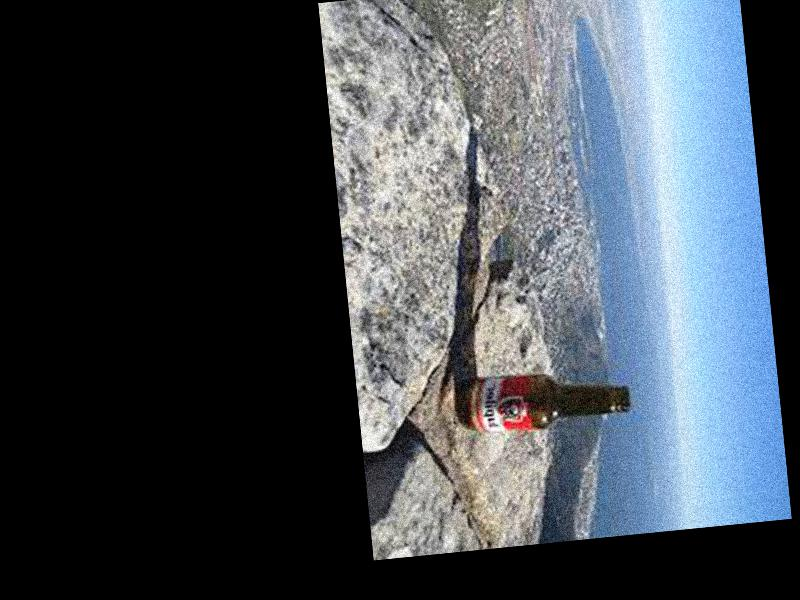Beer: (459, 363, 633, 437)
